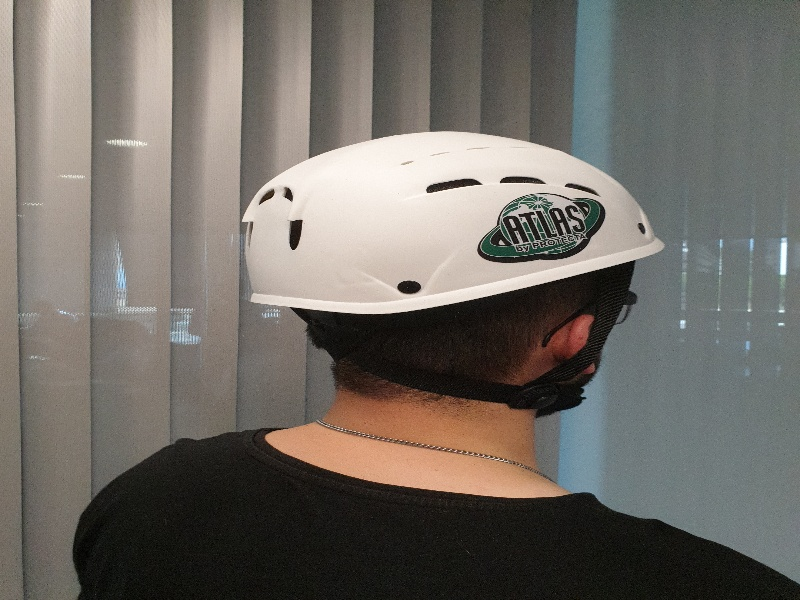Baret: (242, 129, 663, 305)
